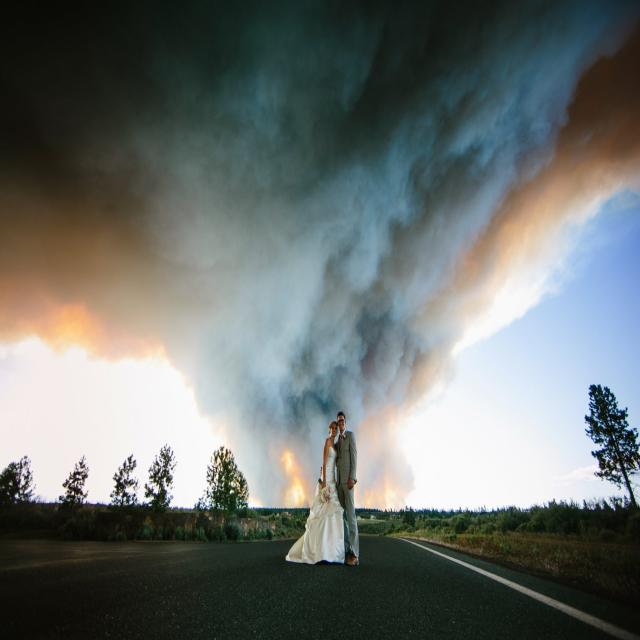Fire: (276, 448, 312, 516)
Smoke: (0, 0, 640, 434)
